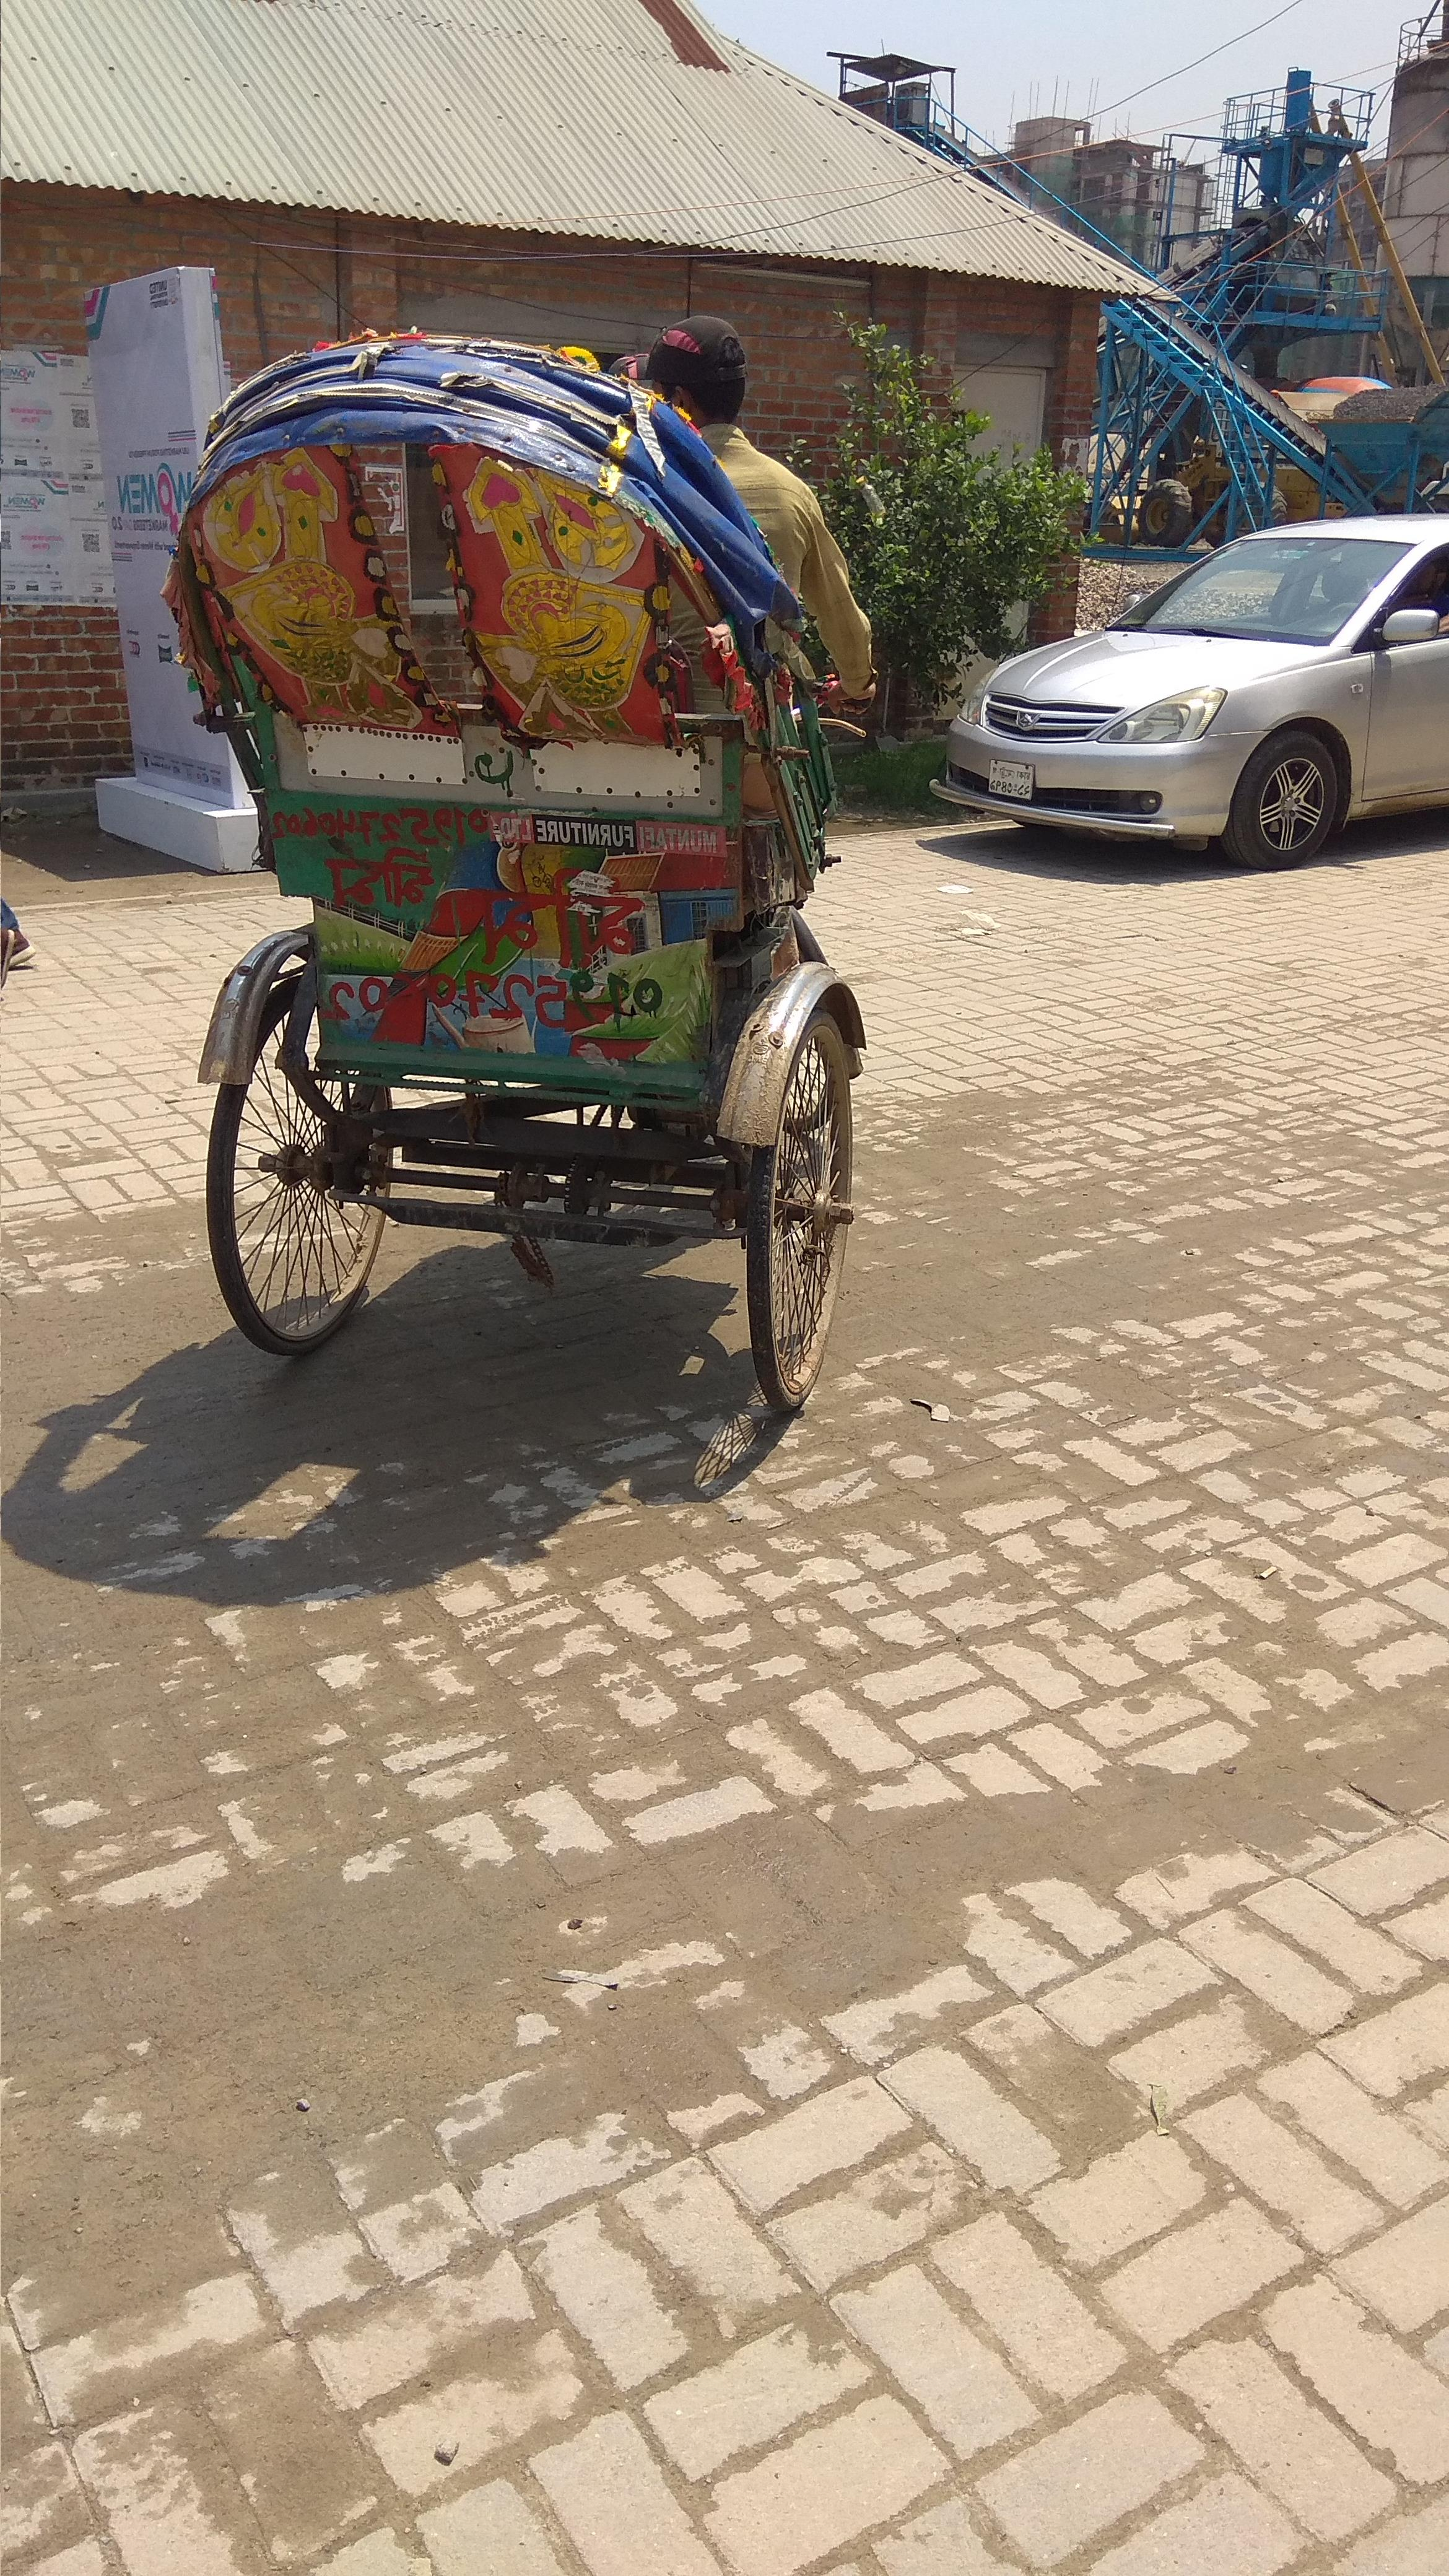Rickshaw: (159, 294, 879, 1419)
